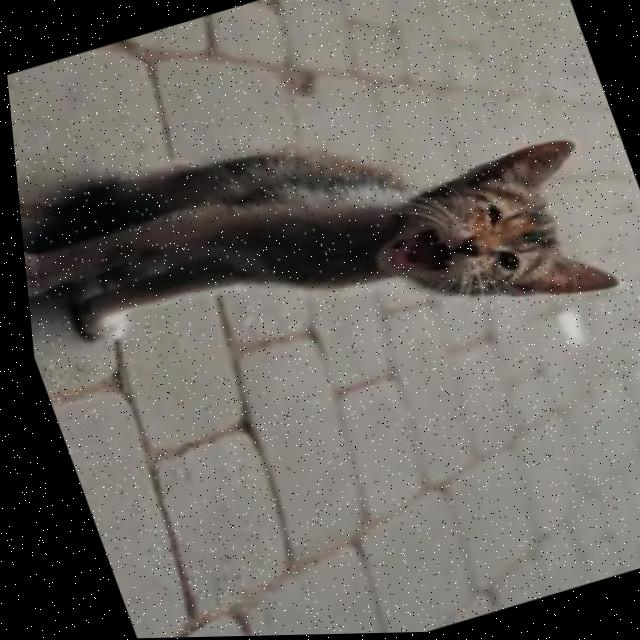Cats: (19, 141, 610, 338)
